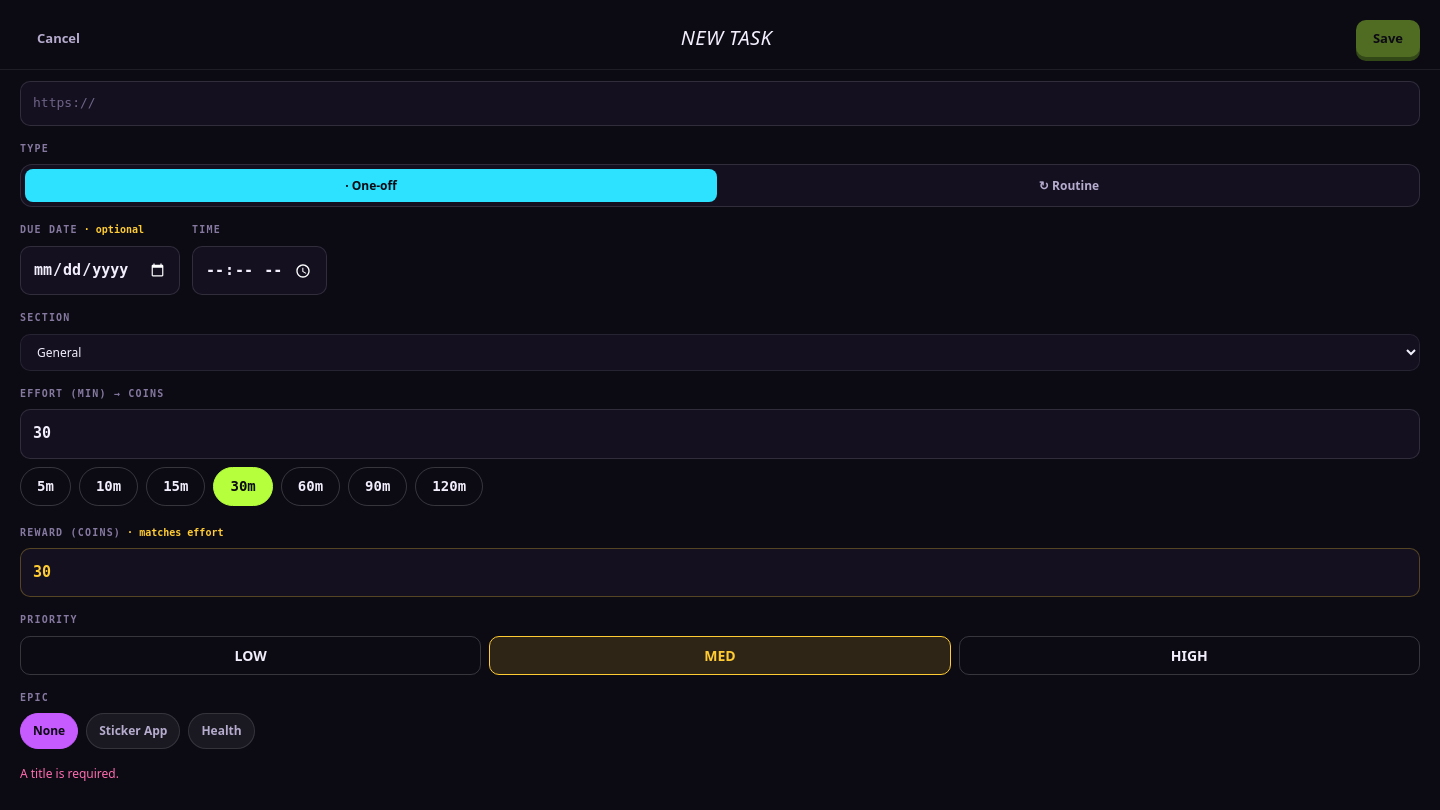
it: effort and reward › sets effort from a preset chip
(page scrolled)
Click the button "60m" at x=310, y=486, box x1=281 y1=467 x2=340 y2=506
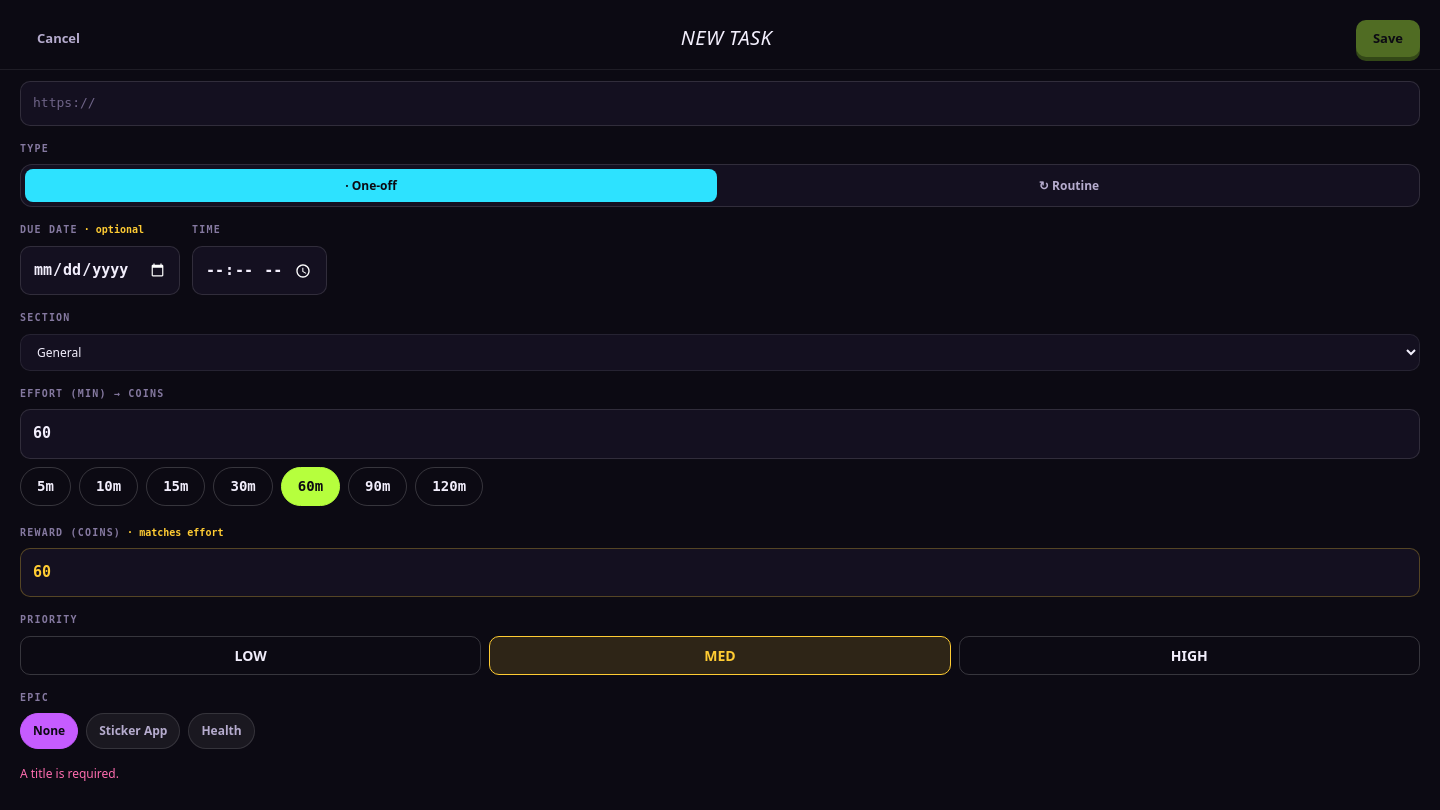
Now the field labelled "Effort (min) → coins" holds "60", box x1=20 y1=409 x2=1420 y2=459
Now the field labelled "Reward (coins) · matches effort" holds "60", box x1=20 y1=548 x2=1420 y2=597
